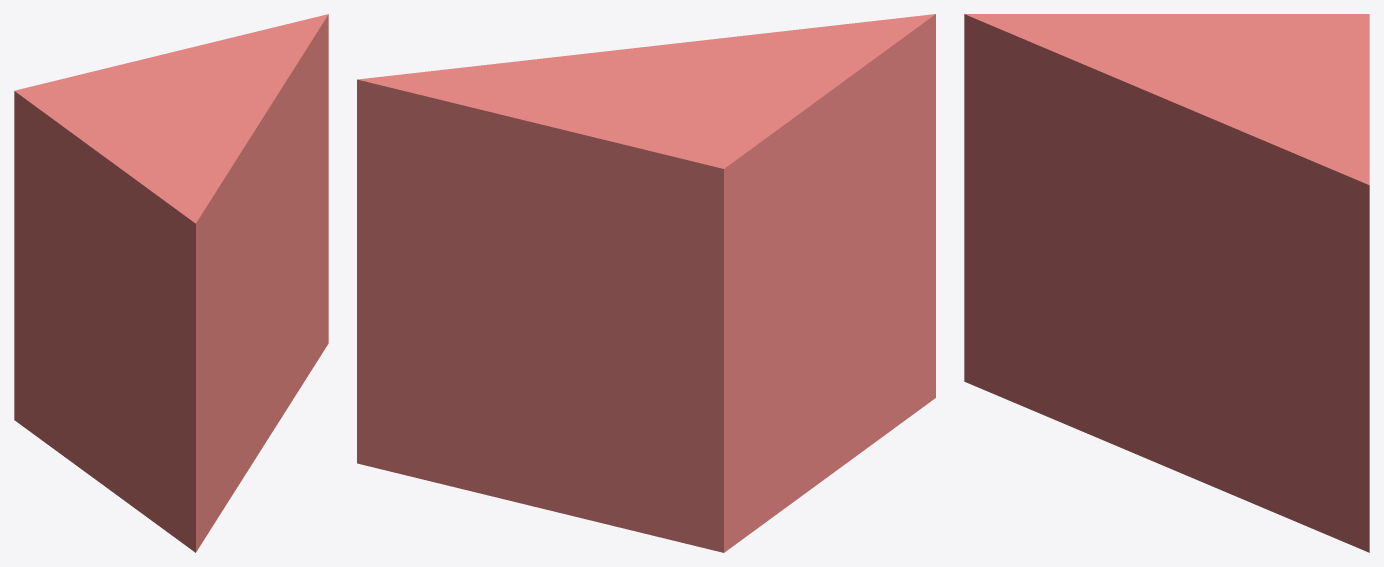
The model's file is Hazard_VerticalSlope.glb.
3 views of the same model, side by side, from view 1: azimuth 30°, elevation 25°; view 2: azimuth 150°, elevation 25°; view 3: azimuth 270°, elevation 25° (orthographic). The views are drawn at different scales.
Visible parts, largest first — view 1: Hazard_VerticalSlope_body; view 2: Hazard_VerticalSlope_body; view 3: Hazard_VerticalSlope_body.
Part boxes in pixels (x1,y1,x2,y2): Hazard_VerticalSlope_body: (14, 14, 328, 552); Hazard_VerticalSlope_body: (357, 14, 935, 552); Hazard_VerticalSlope_body: (964, 14, 1369, 552).
Bounding box in the file's own units: 1 × 1 × 1.
